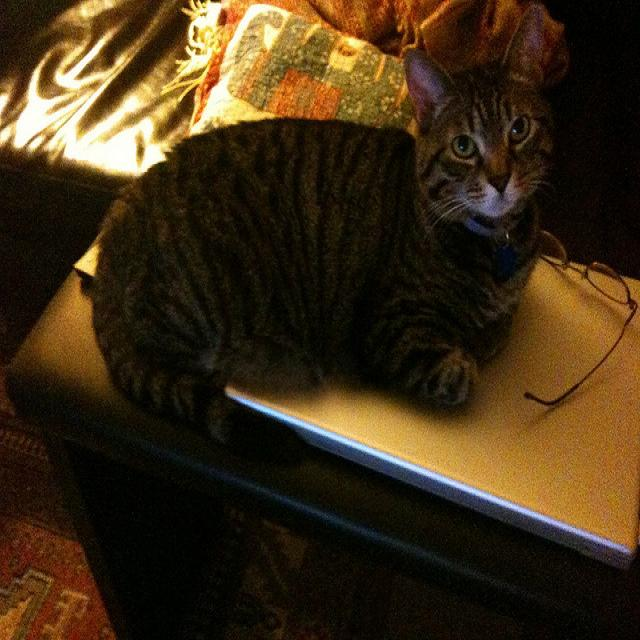Cat: (87, 44, 573, 429)
Table: (35, 143, 640, 640)
